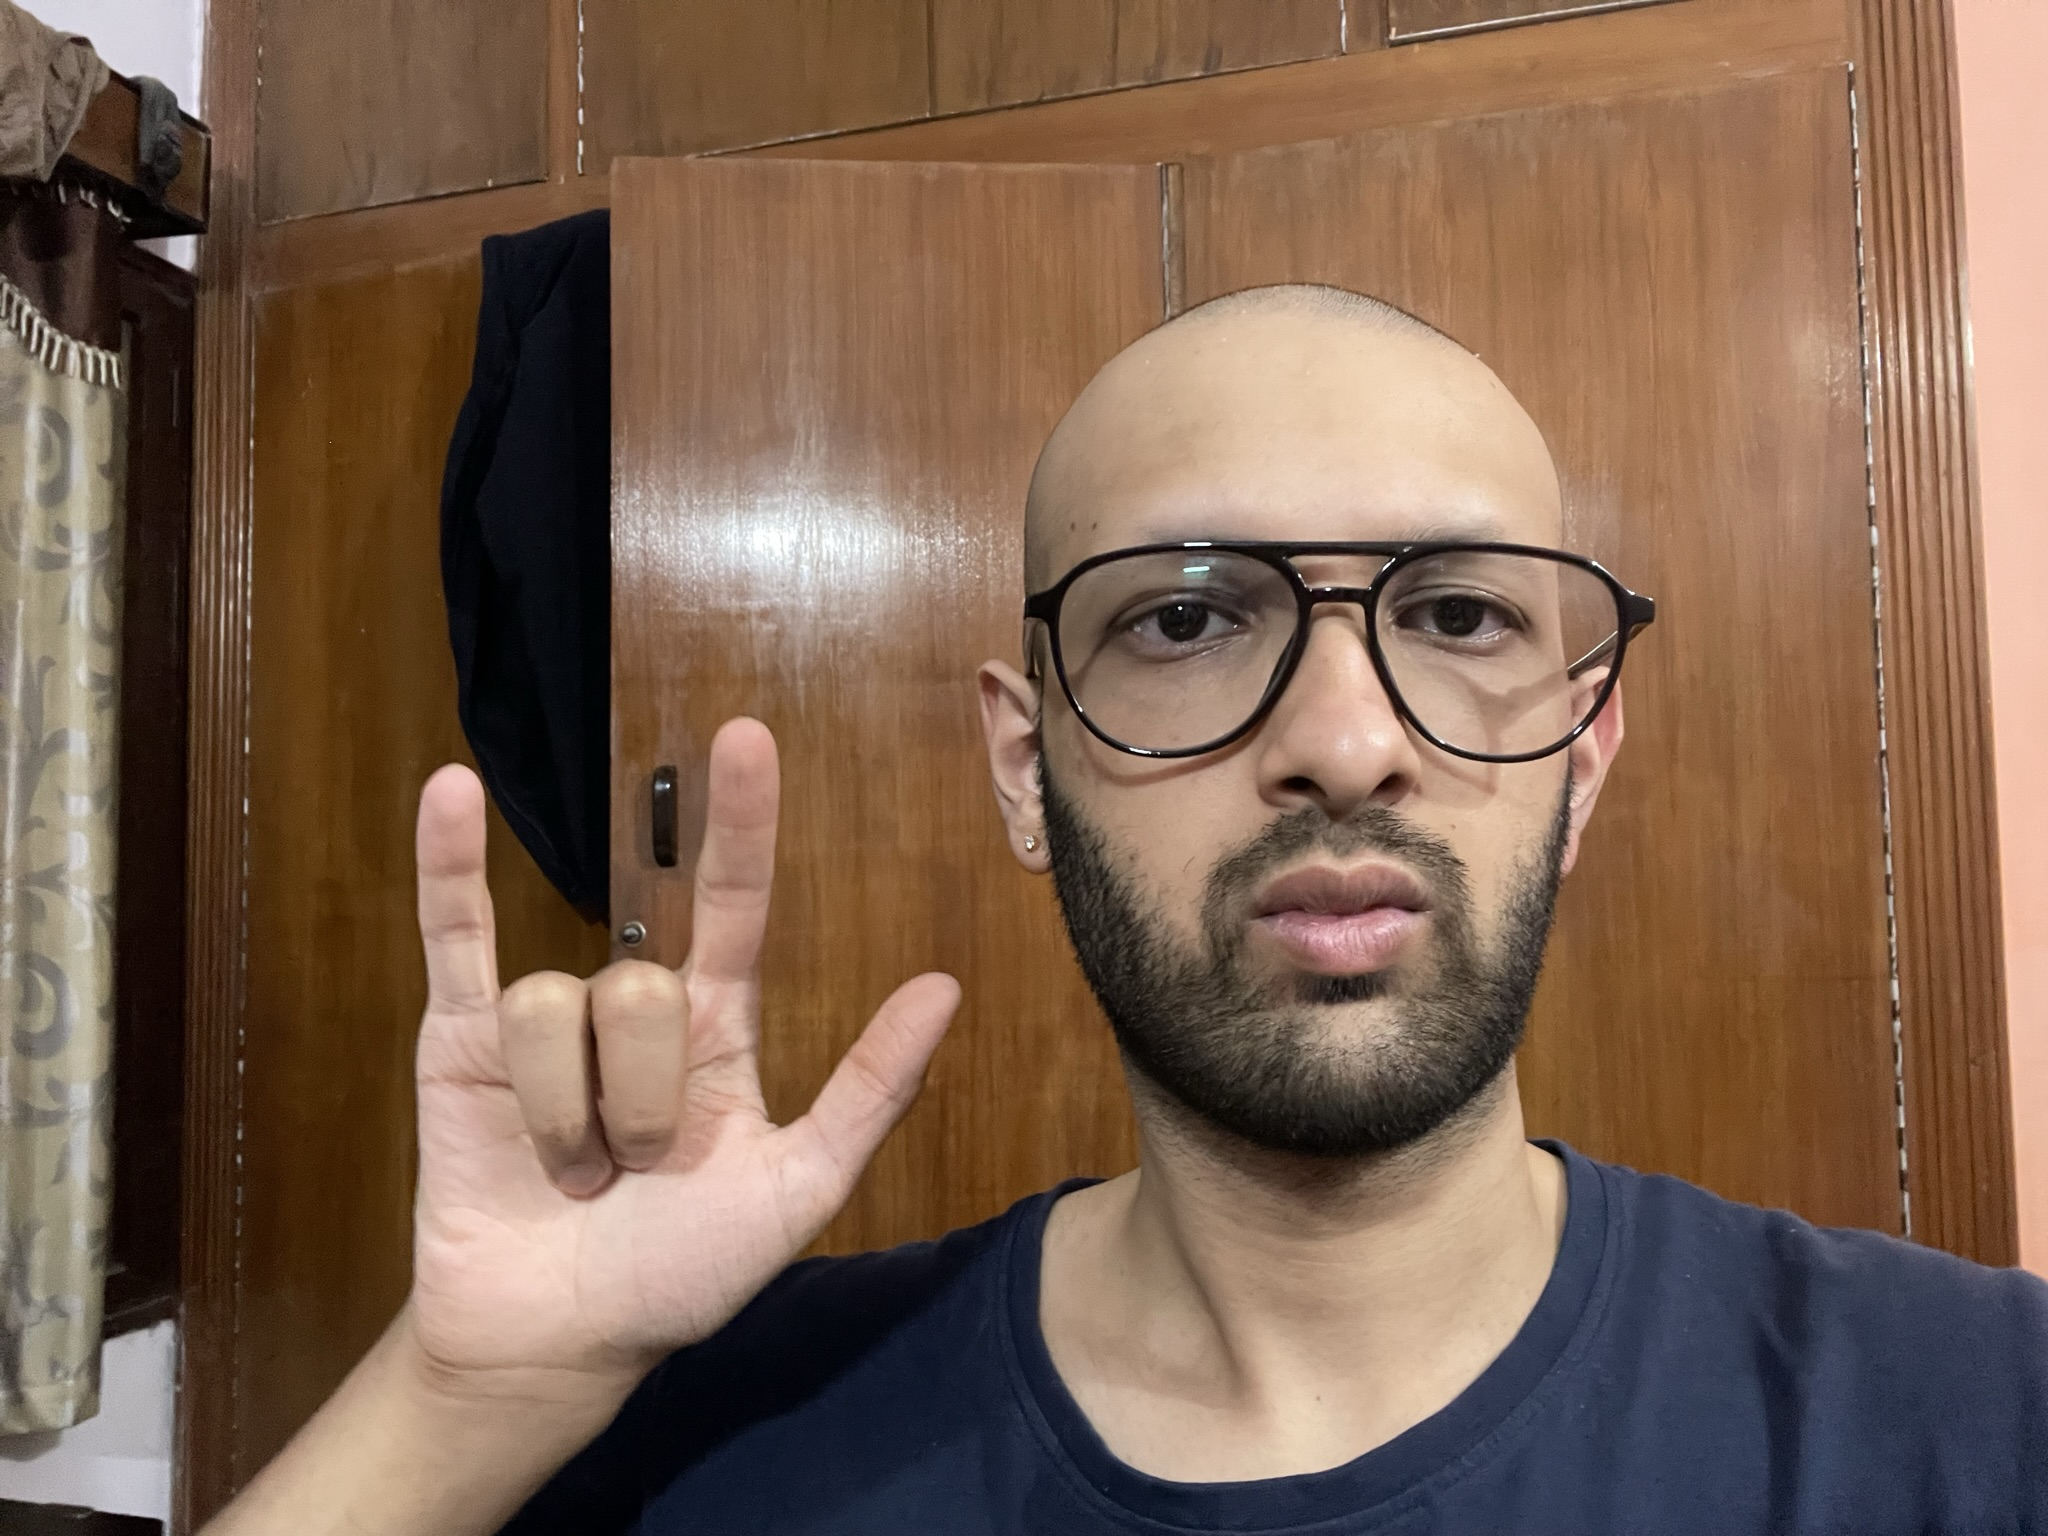I Love You: (397, 708, 972, 1357)
